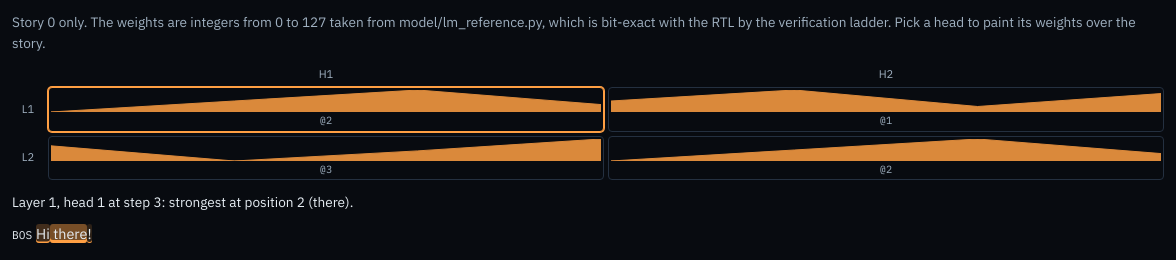
Test: AttentionView › selects layer 1, head 1 first, and moves the selection on click
The width and height of the screenshot is (1176, 260).
Click the 2nd button "@2" at (886, 158), box top-left (608, 136), bottom-right (1164, 180)
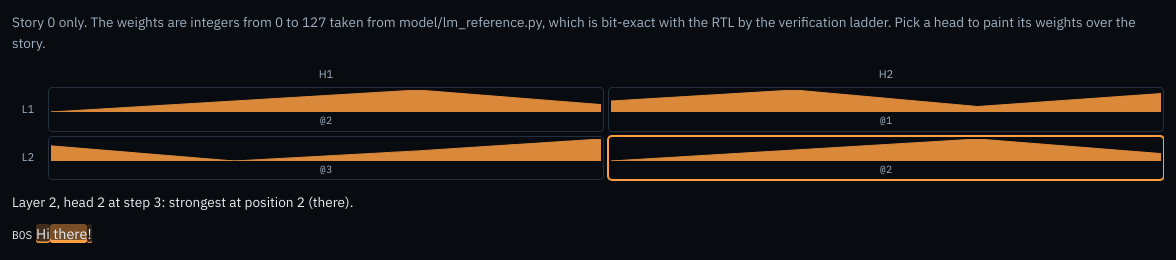
Expected: the text with class "overlay-caption" shows "Layer 2, head 2", top-left (12, 193), bottom-right (353, 211)
